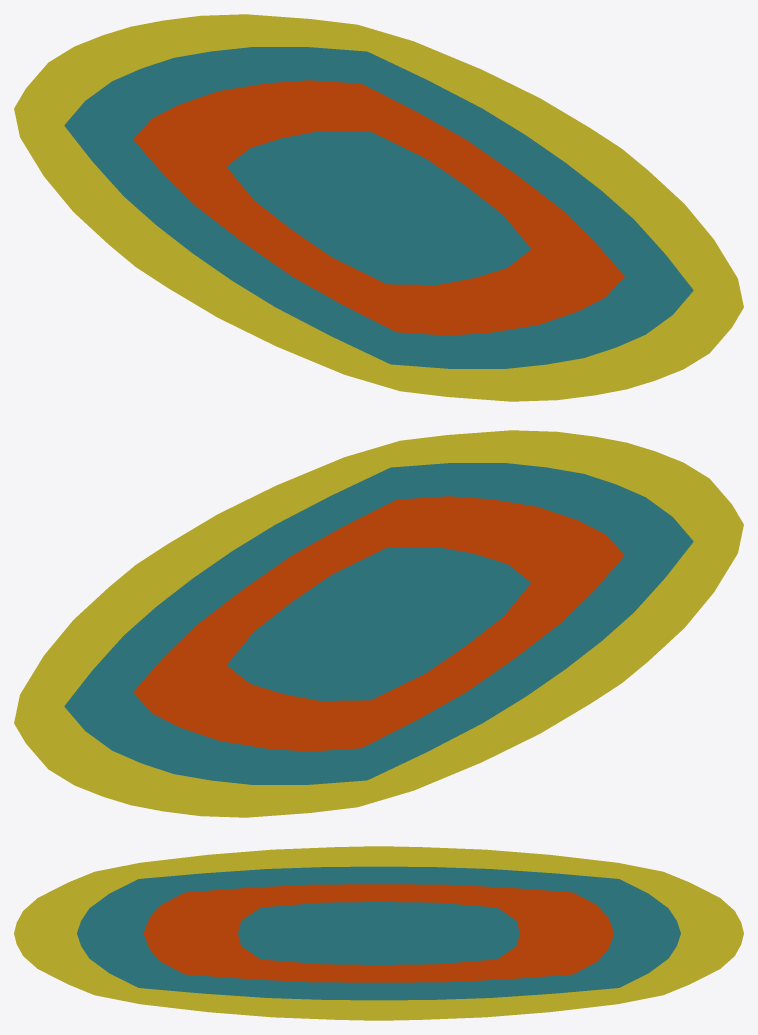
Rendered from Cozinha_04.fbx.
The picture shows the model from 3 angles, top to bottom: view 1: azimuth 30°, elevation 25°; view 2: azimuth 150°, elevation 25°; view 3: azimuth 270°, elevation 25°; orthographic projection. The views are drawn at different scales.
Parts seen in each view (by area): view 1: Circle.006; view 2: Circle.006; view 3: Circle.006.
Boxes of the visible parts, x1=… form: Circle.006: x1=14, y1=14, x2=743, y2=401; Circle.006: x1=14, y1=430, x2=743, y2=817; Circle.006: x1=14, y1=846, x2=743, y2=1020.
Size of the model in its own units: 195 by 3.17e-05 by 344.
